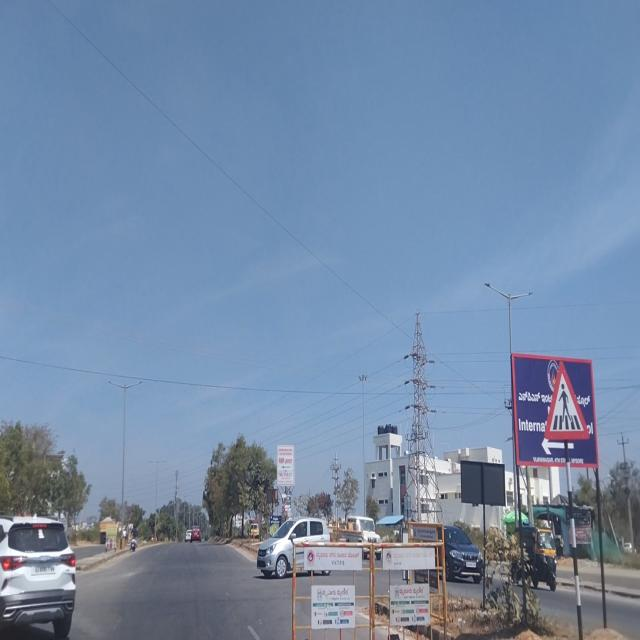bien_cam: (544, 358, 590, 442)
